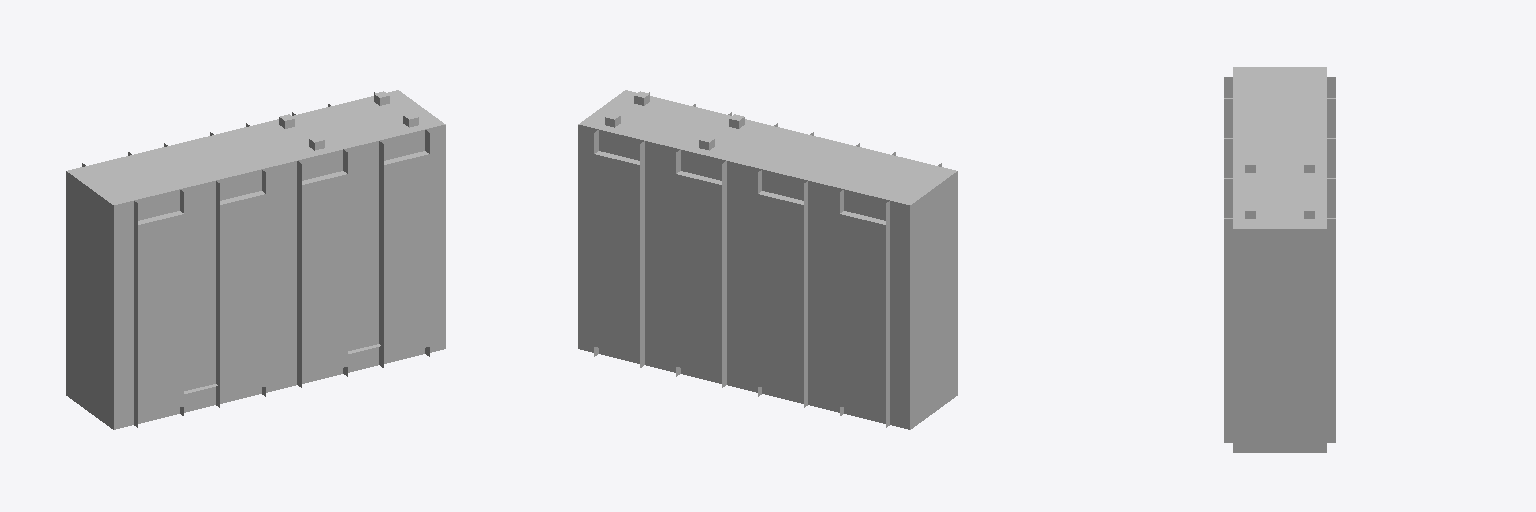
File: rus_build_9et_02b_LOD1_3.obj
3 views of the same model, side by side, from view 1: azimuth 30°, elevation 25°; view 2: azimuth 150°, elevation 25°; view 3: azimuth 270°, elevation 25° (orthographic).
Visible parts, largest first — view 1: rus_build_9et_02b_LOD1; view 2: rus_build_9et_02b_LOD1; view 3: rus_build_9et_02b_LOD1.
Boxes of the visible parts, box(x1,y1,x2,y2) form: rus_build_9et_02b_LOD1: box(66, 90, 445, 429); rus_build_9et_02b_LOD1: box(578, 90, 957, 429); rus_build_9et_02b_LOD1: box(1224, 67, 1335, 452).
Bounding box in the file's own units: 130 × 87 × 38.